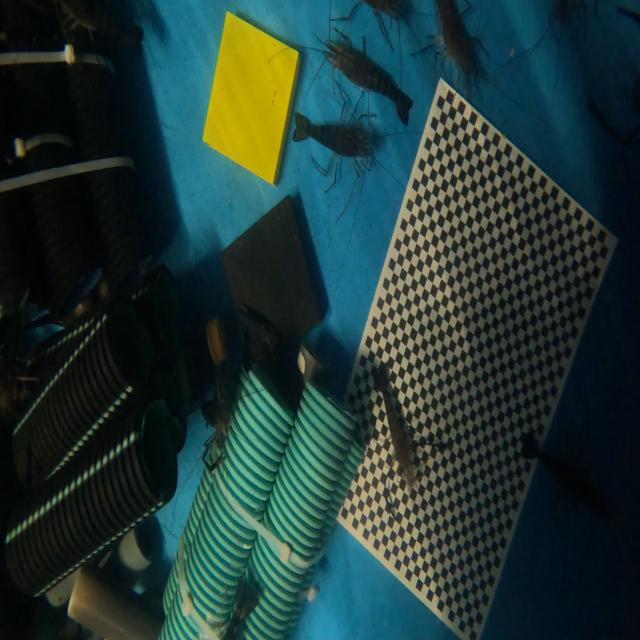prawn: (323, 35, 412, 123), (371, 363, 416, 484), (293, 113, 373, 157), (434, 0, 479, 74)
